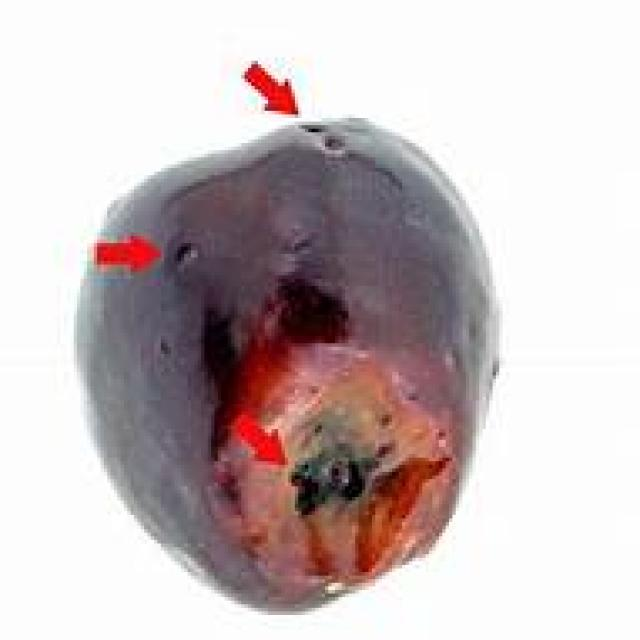Olive Fruit Fly: (74, 119, 501, 615)
